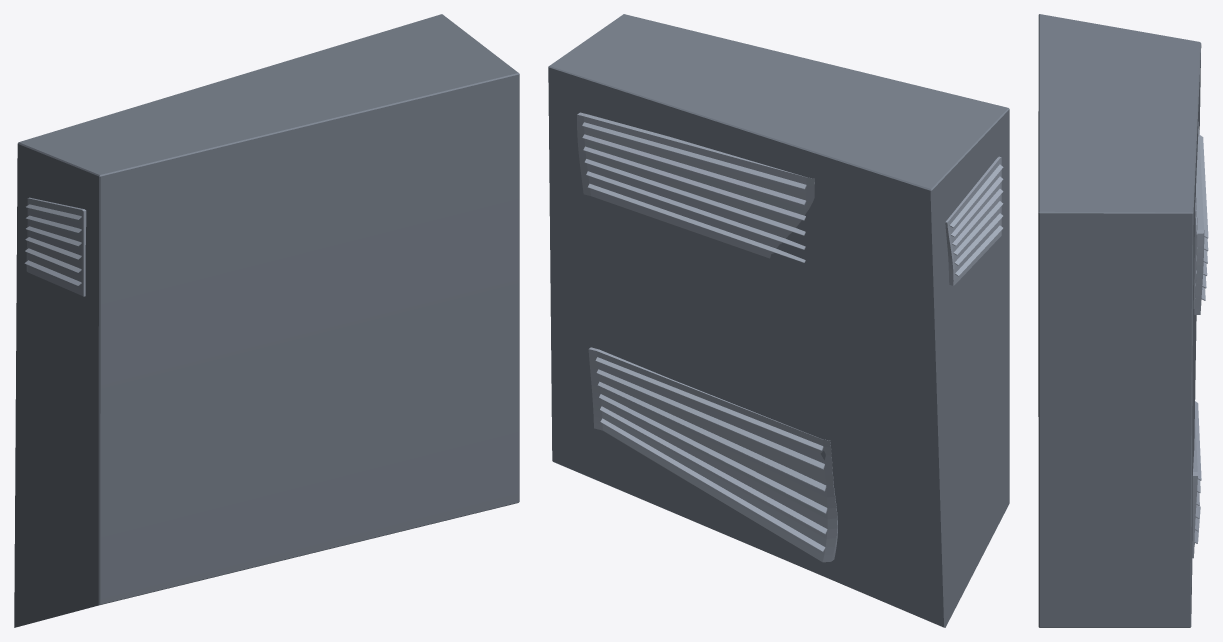
File: box_cutter-machine_001.fbx
The picture shows the model from 3 angles, left to right: view 1: azimuth 30°, elevation 25°; view 2: azimuth 150°, elevation 25°; view 3: azimuth 270°, elevation 25°; orthographic projection. The views are drawn at different scales.
Visible parts, largest first — view 1: box.cutter-machine.001; view 2: box.cutter-machine.001; view 3: box.cutter-machine.001.
Part boxes in pixels (x1=…): box.cutter-machine.001: x1=14, y1=14, x2=519, y2=627; box.cutter-machine.001: x1=548, y1=14, x2=1009, y2=627; box.cutter-machine.001: x1=1038, y1=14, x2=1208, y2=627.
Size of the model in its own units: 0.3742 by 0.4198 by 0.1316.
